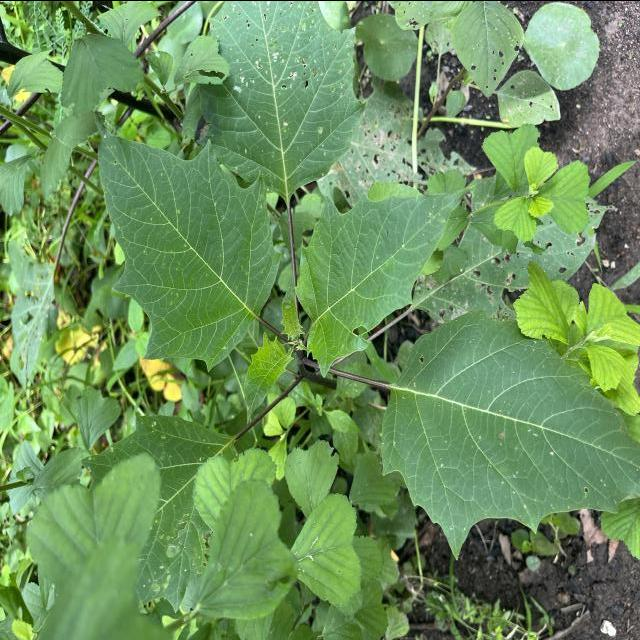Datura metal linn: (377, 302, 640, 564), (94, 104, 284, 376), (292, 182, 481, 380)
